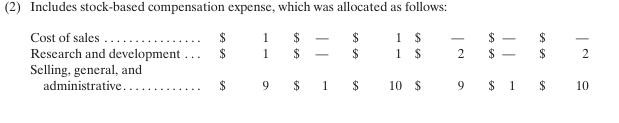table: (29, 29, 587, 92)
table column: (29, 29, 198, 92), (198, 29, 280, 92), (339, 29, 407, 92), (407, 29, 475, 92), (526, 29, 587, 92), (280, 29, 339, 92), (475, 29, 526, 92)
table column header: (29, 29, 587, 44)
table row: (29, 60, 587, 92), (29, 44, 587, 60), (29, 29, 587, 44)
